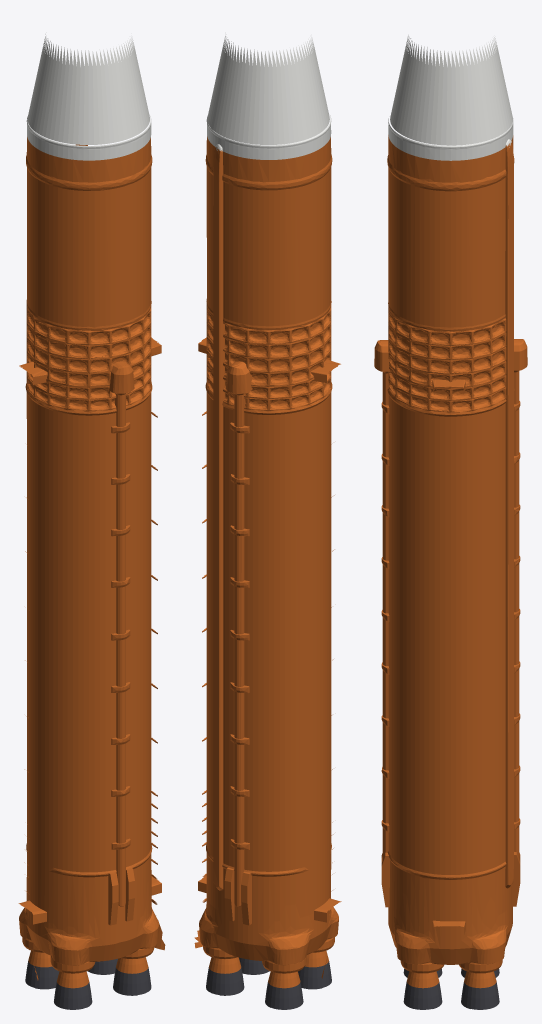
Rendered from sls_core_stage.glb.
3 views of the same model, side by side, from view 1: azimuth 30°, elevation 25°; view 2: azimuth 150°, elevation 25°; view 3: azimuth 270°, elevation 25° (orthographic).
Parts seen in each view (by area): view 1: part_0, part_2, part_1; view 2: part_0, part_2, part_1; view 3: part_0, part_2, part_1.
Boxes of the visible parts, box(x1,y1,x2,y2) form: part_0: box(18, 137, 165, 988); part_2: box(26, 34, 151, 160); part_1: box(25, 958, 151, 1009); part_0: box(194, 136, 341, 988); part_2: box(206, 36, 331, 159); part_1: box(206, 957, 331, 1009); part_0: box(374, 135, 527, 988); part_2: box(388, 35, 513, 160); part_1: box(403, 968, 499, 1009).
Size of the model in its own units: 10.12 by 70.51 by 10.24.
